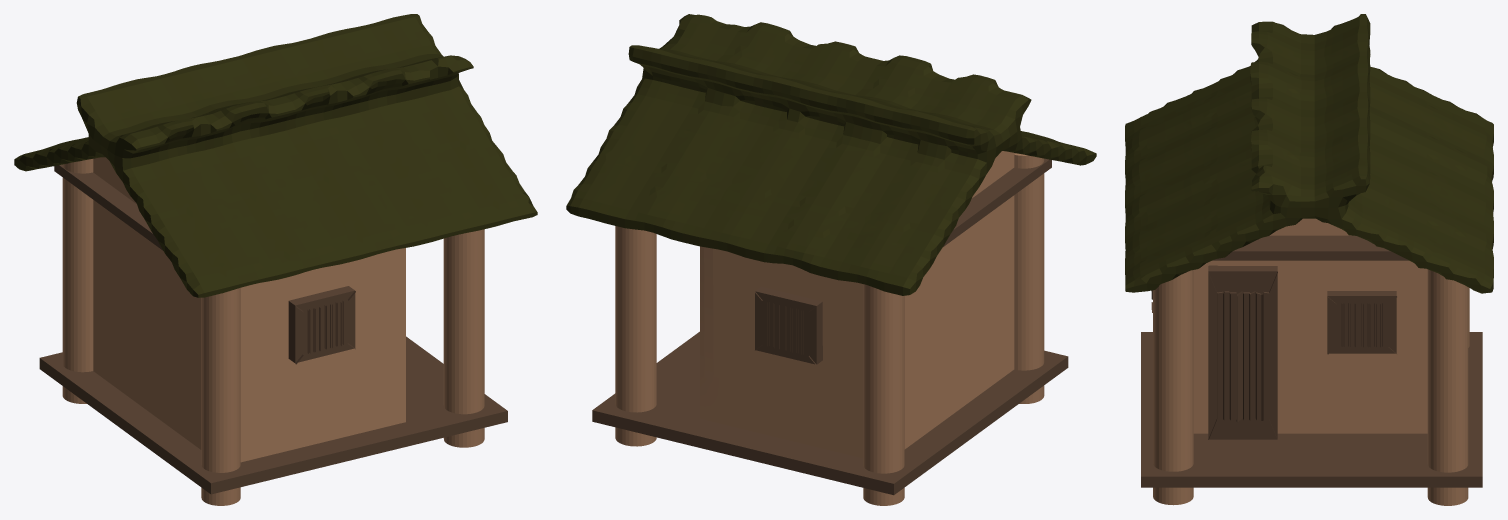
The model's file is merged kubo.fbx.
3 views of the same model, side by side, from view 1: azimuth 30°, elevation 25°; view 2: azimuth 150°, elevation 25°; view 3: azimuth 270°, elevation 25° (orthographic).
Visible parts, largest first — view 1: Cylinder; view 2: Cylinder; view 3: Cylinder.
Part boxes in pixels (bbox=[...]): Cylinder: bbox=[14, 14, 537, 505]; Cylinder: bbox=[566, 14, 1096, 505]; Cylinder: bbox=[1125, 14, 1493, 505].
Size of the model in its own units: 560 by 538 by 523.
